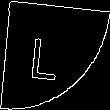L_N: (38, 28, 72, 82)
